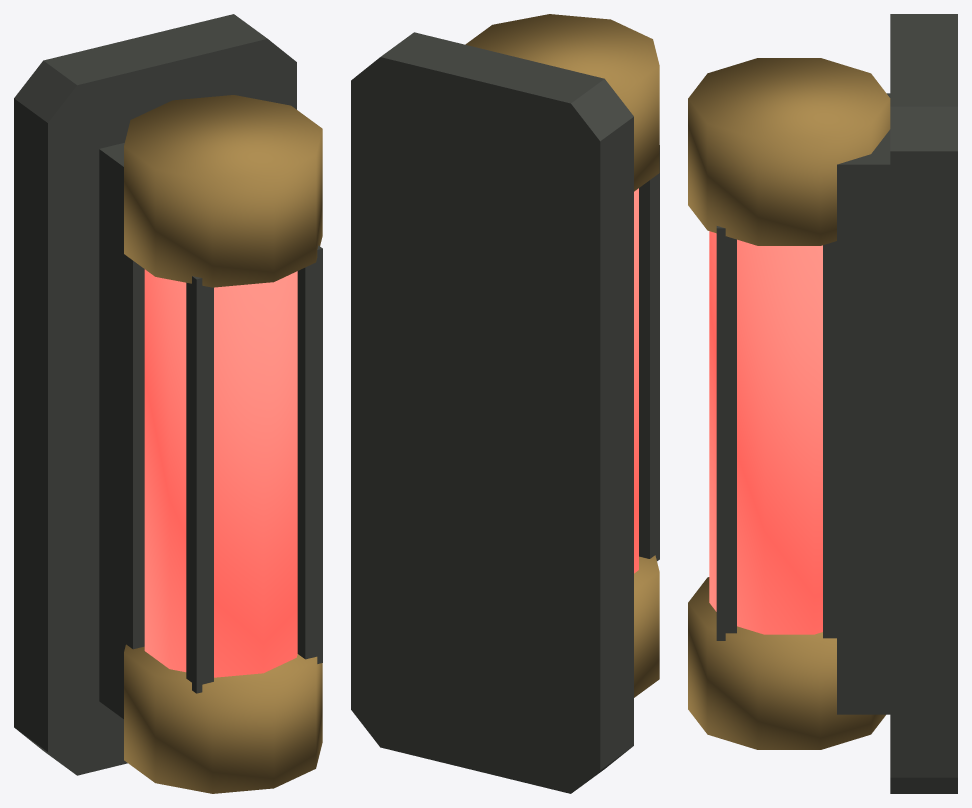
File: lamp_red.glb
The picture shows the model from 3 angles, left to right: view 1: azimuth 30°, elevation 25°; view 2: azimuth 150°, elevation 25°; view 3: azimuth 270°, elevation 25°; orthographic projection.
Visible parts, largest first — view 1: lamp_red; view 2: lamp_red; view 3: lamp_red.
Boxes of the visible parts, x1,y1,x2,y2 form: lamp_red: [14, 14, 322, 793]; lamp_red: [351, 14, 659, 793]; lamp_red: [688, 14, 957, 793].
Size of the model in its own units: 0.34 by 0.9 by 0.32.
